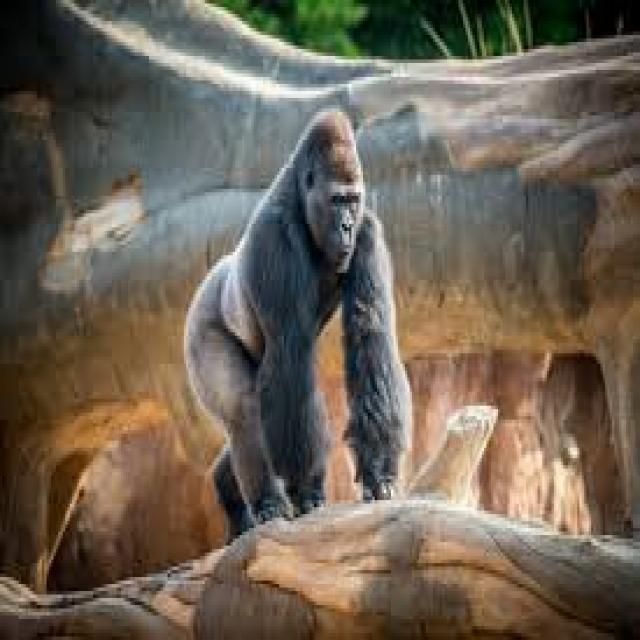Gorilla: (183, 102, 414, 539)
